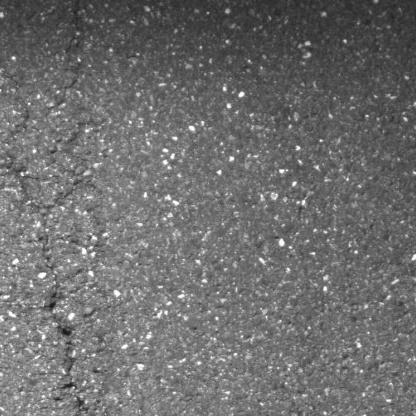Cracks: (0, 104, 106, 416), (41, 0, 89, 124)
